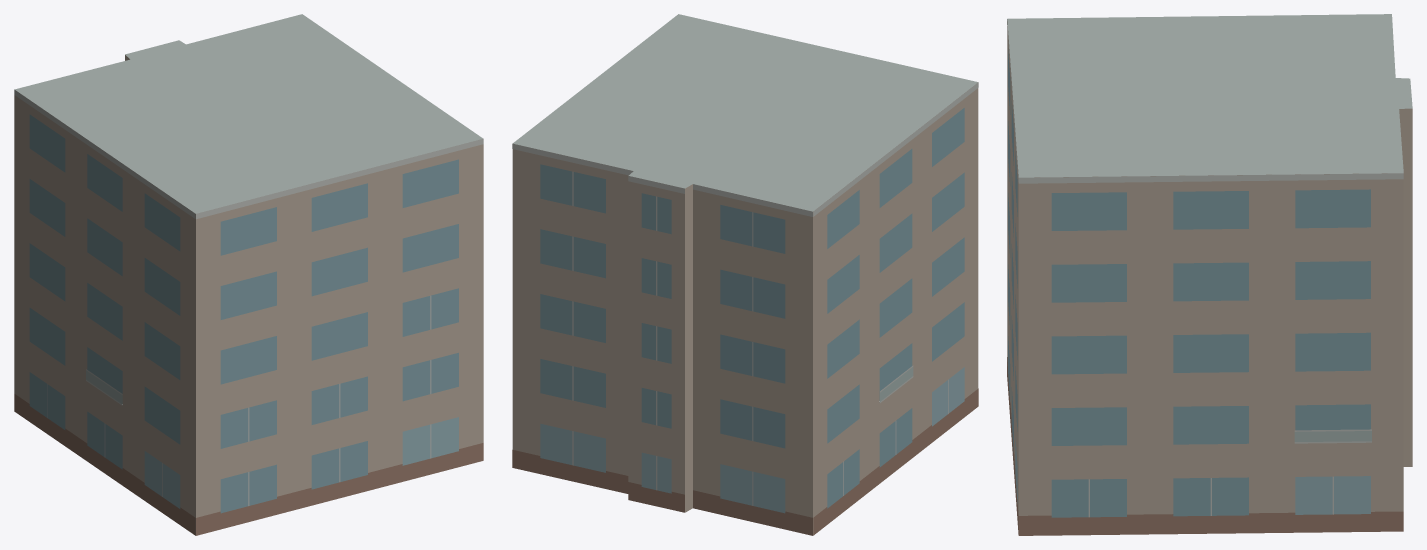
Rendered from survey-upis-32833678.glb.
3 views of the same model, side by side, from view 1: azimuth 30°, elevation 25°; view 2: azimuth 150°, elevation 25°; view 3: azimuth 270°, elevation 25° (orthographic). The views are drawn at different scales.
Parts seen in each view (by area): view 1: survey-upis-32833678.tmp; view 2: survey-upis-32833678.tmp; view 3: survey-upis-32833678.tmp.
Boxes of the visible parts, x1,y1,x2,y2 form: survey-upis-32833678.tmp: (14,14,483,535); survey-upis-32833678.tmp: (512,14,978,535); survey-upis-32833678.tmp: (1007,14,1412,535).
Size of the model in its own units: 14.12 by 14.4 by 14.78.
